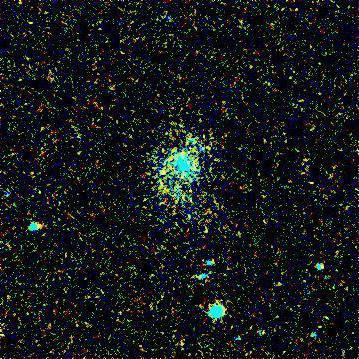star: (149, 151, 179, 181)
